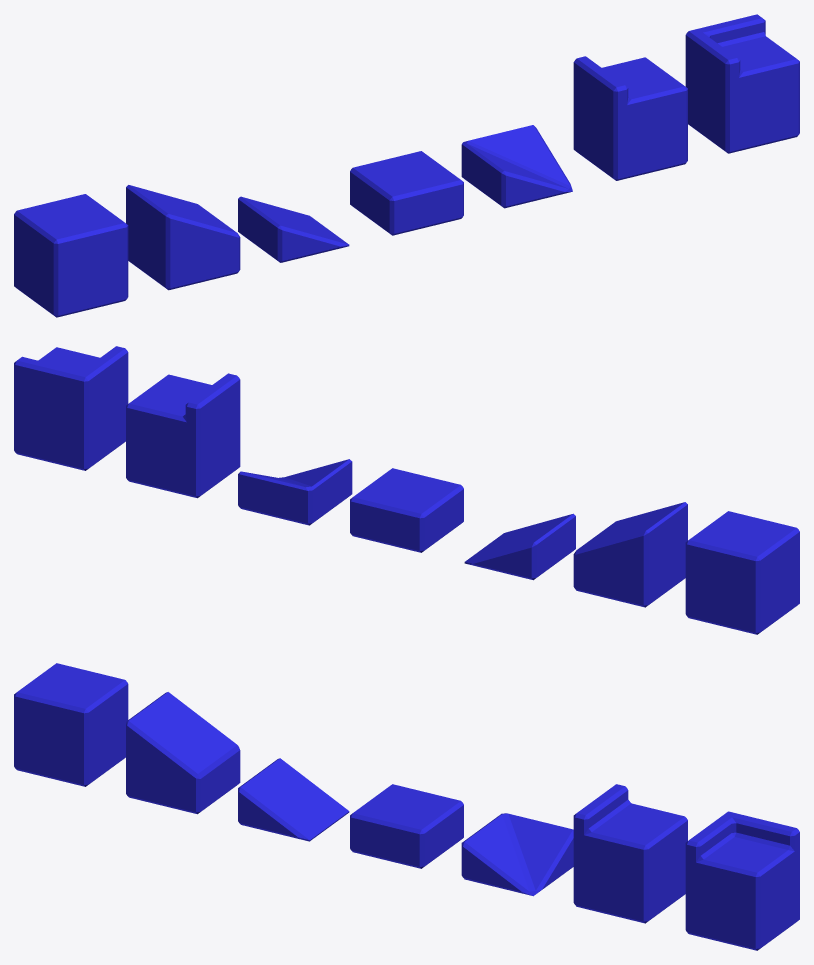
File: Blocks.glb
The picture shows the model from 3 angles, top to bottom: view 1: azimuth 30°, elevation 25°; view 2: azimuth 150°, elevation 25°; view 3: azimuth 330°, elevation 25°; orthographic projection.
Parts seen in each view (by area): view 1: BlockWallCorner, BlockWall, Block, RampTop, ShortBlock, RampLowerCorner, RampBottom; view 2: BlockWallCorner, BlockWall, Block, RampTop, ShortBlock, RampLowerCorner, RampBottom; view 3: BlockWallCorner, BlockWall, Block, RampTop, ShortBlock, RampLowerCorner, RampBottom.
Part boxes in pixels (left/top/right/bottom): BlockWallCorner: left=685, top=14, right=799, bottom=153; BlockWall: left=573, top=56, right=687, bottom=180; Block: left=14, top=194, right=128, bottom=317; RampTop: left=126, top=185, right=240, bottom=290; ShortBlock: left=350, top=151, right=463, bottom=235; RampLowerCorner: left=461, top=125, right=572, bottom=208; RampBottom: left=238, top=196, right=349, bottom=262; BlockWallCorner: left=14, top=346, right=128, bottom=470; BlockWall: left=126, top=373, right=240, bottom=498; Block: left=685, top=511, right=799, bottom=634; RampTop: left=573, top=502, right=687, bottom=607; ShortBlock: left=350, top=468, right=463, bottom=552; RampLowerCorner: left=238, top=459, right=352, bottom=525; RampBottom: left=464, top=513, right=575, bottom=580; BlockWallCorner: left=685, top=811, right=799, bottom=950; BlockWall: left=573, top=784, right=687, bottom=923; Block: left=14, top=663, right=128, bottom=786; RampTop: left=126, top=692, right=240, bottom=814; ShortBlock: left=350, top=784, right=463, bottom=868; RampLowerCorner: left=461, top=813, right=573, bottom=896; RampBottom: left=238, top=758, right=349, bottom=841.
Size of what is drawn, in the model's own units: 20 by 2.4 by 2.
